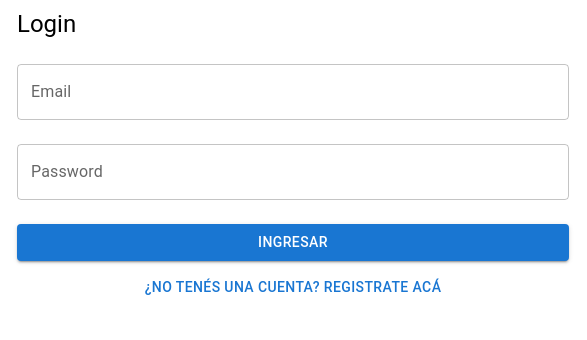
Login Page › login fallido muestra error
In the field labelled "Email": point(293, 92) top-left (17, 64), bottom-right (569, 120), type "x@x.com"
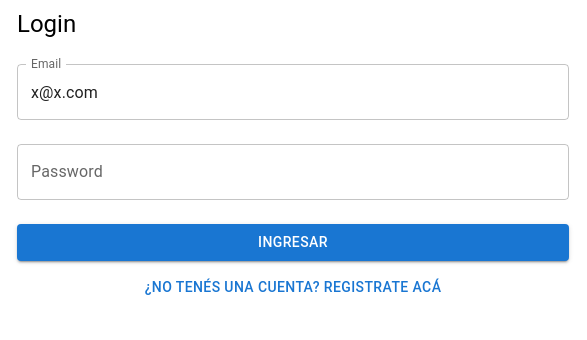
In the password field labelled "Password": point(293, 172) top-left (17, 144), bottom-right (569, 200), type "bad"
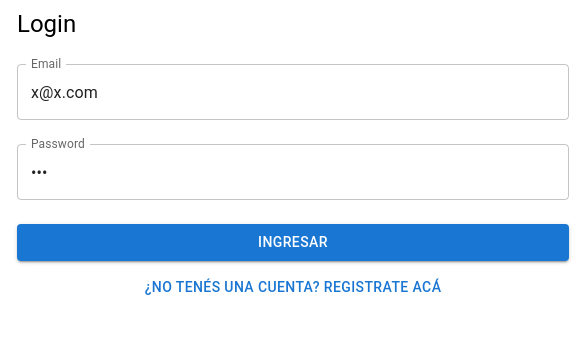
Click the button "Ingresar": point(293, 243) top-left (17, 224), bottom-right (569, 261)
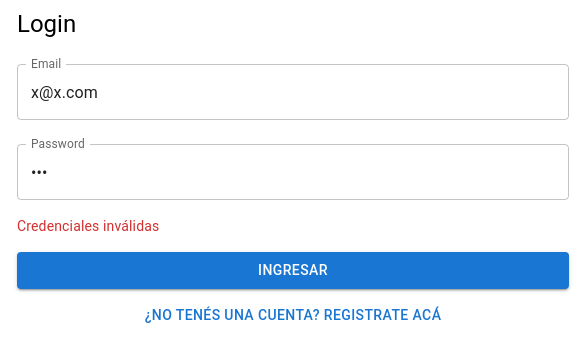
Check: the text "Credenciales inválidas" is shown, box top-left (17, 218), bottom-right (159, 234)
